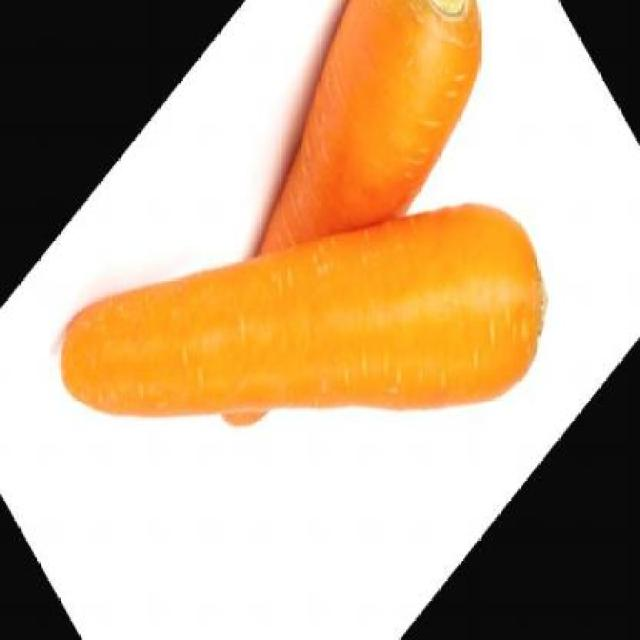carrot: (42, 0, 569, 638), (130, 0, 528, 451)
